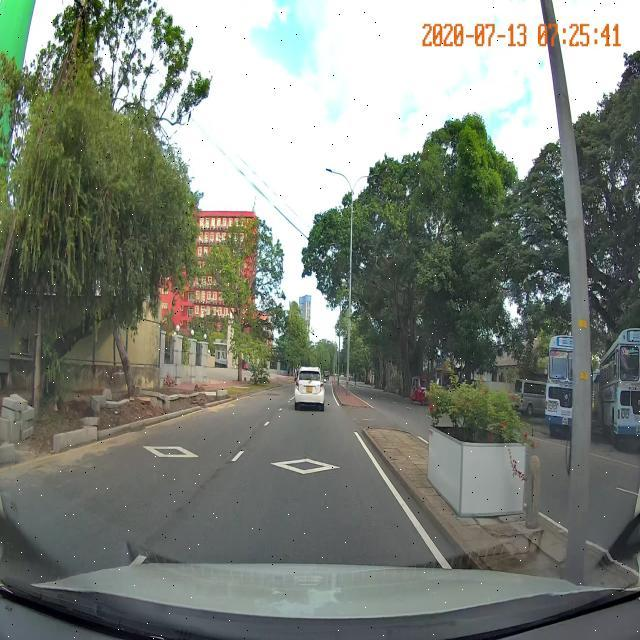diamond: (205, 440, 407, 501)
